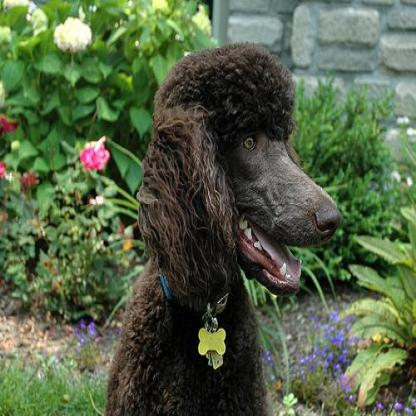standard_poodle: (104, 40, 342, 414)
